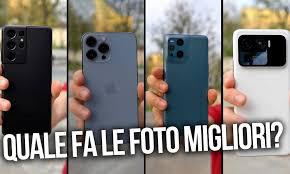Hand: (148, 66, 212, 131), (73, 73, 144, 131), (0, 64, 62, 127), (222, 73, 245, 126)
Smartphone: (234, 28, 287, 159), (81, 33, 137, 147), (1, 27, 52, 149), (164, 32, 207, 136)
